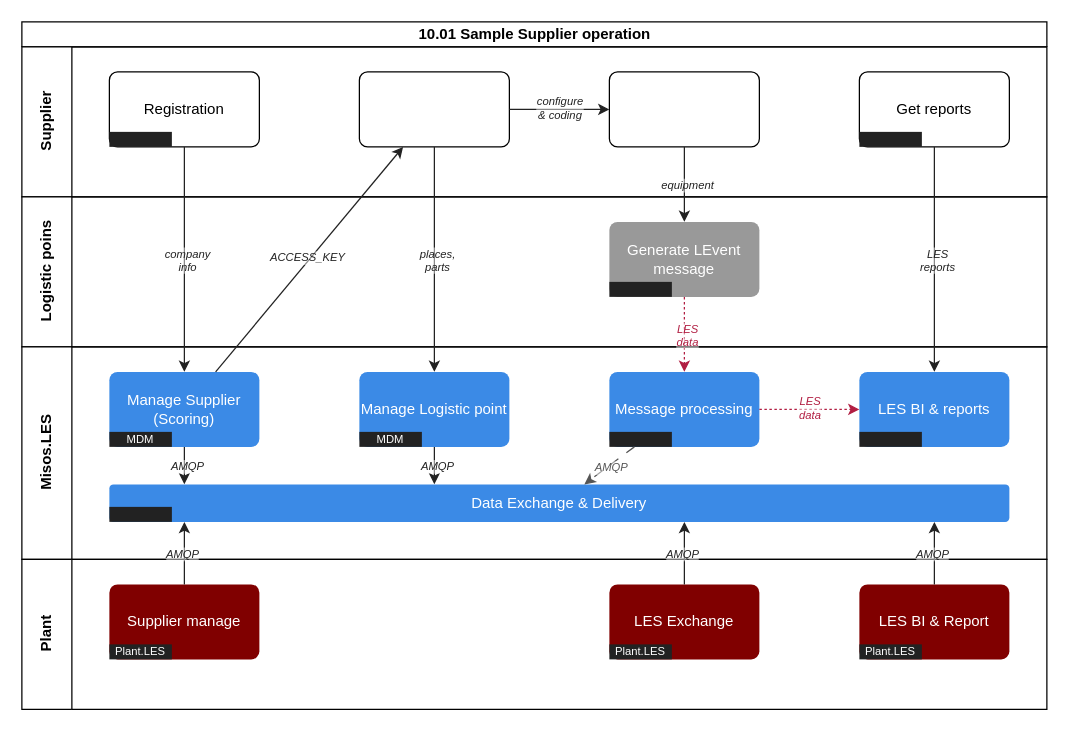
Some shapes in this 1069 by 731 pixel diagram are drawn without their labels. Each missing label, with the centre of its shape:
"Application" belongs at [140,138].
"BI" belongs at [890,438].
"Bus" belongs at [140,513].
"GATE" belongs at [640,438].
"QR code" belongs at [640,288].
"Seting up integration" belongs at [433,109].
"Setting up LPoints" belongs at [683,109].
"Supplier BI" belongs at [890,138].
